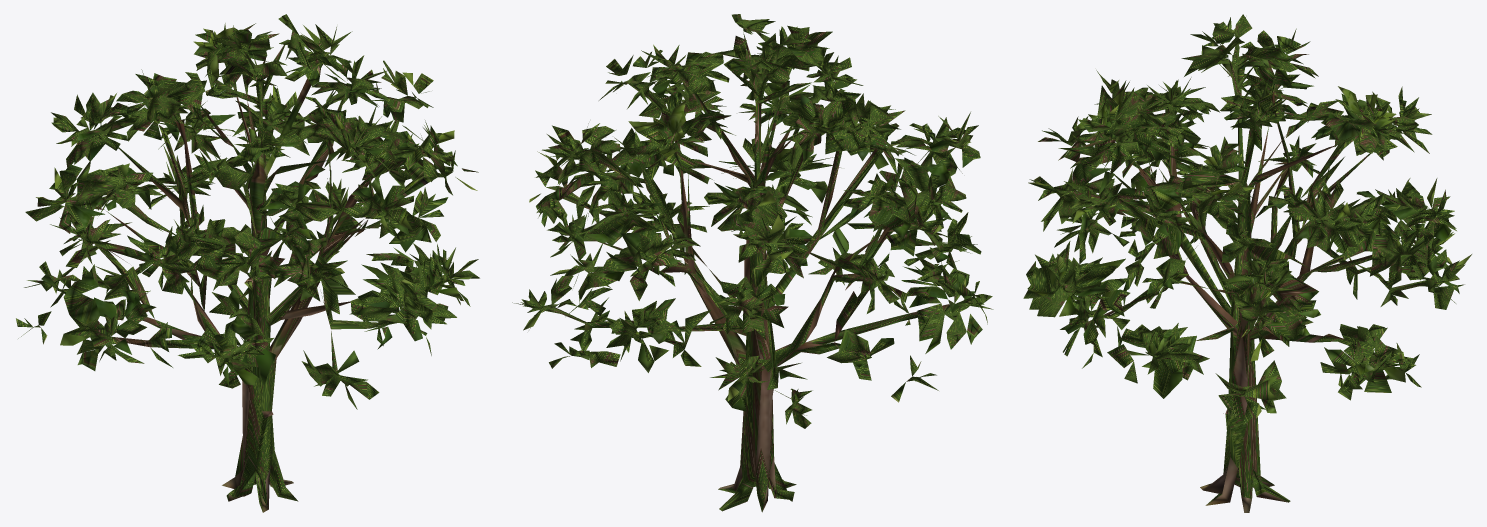
Rendered from broadleaf-tree-lod.glb.
3 renders of one model, left to right at view 1: azimuth 30°, elevation 25°; view 2: azimuth 150°, elevation 25°; view 3: azimuth 270°, elevation 25°, orthographic.
Parts seen in each view (by area): view 1: tripo_node_cd4ed642-e9b6-4a6a-a064-e3b3f8358b71; view 2: tripo_node_cd4ed642-e9b6-4a6a-a064-e3b3f8358b71; view 3: tripo_node_cd4ed642-e9b6-4a6a-a064-e3b3f8358b71.
Boxes of the visible parts, x1,y1,x2,y2 form: tripo_node_cd4ed642-e9b6-4a6a-a064-e3b3f8358b71: (16,14,479,512); tripo_node_cd4ed642-e9b6-4a6a-a064-e3b3f8358b71: (512,14,993,512); tripo_node_cd4ed642-e9b6-4a6a-a064-e3b3f8358b71: (1023,14,1471,512).
Size of the model in its own units: 0.9624 by 0.9922 by 0.8613.
1 material, 1 textured.
